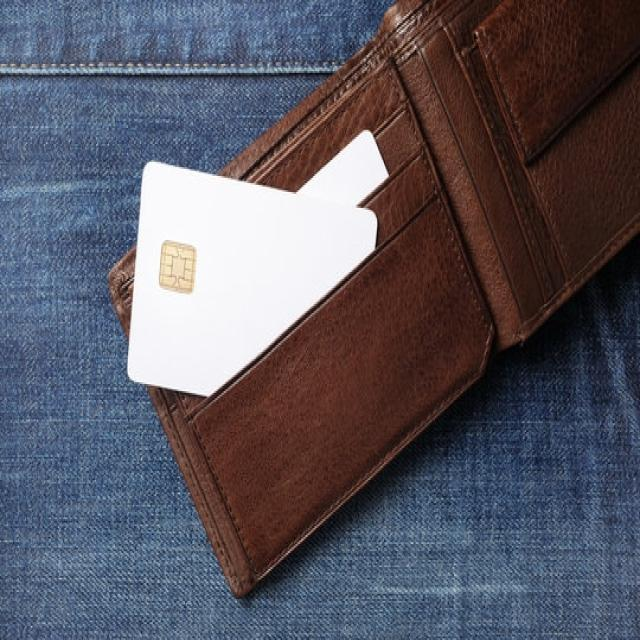payment_card: (125, 129, 389, 398)
